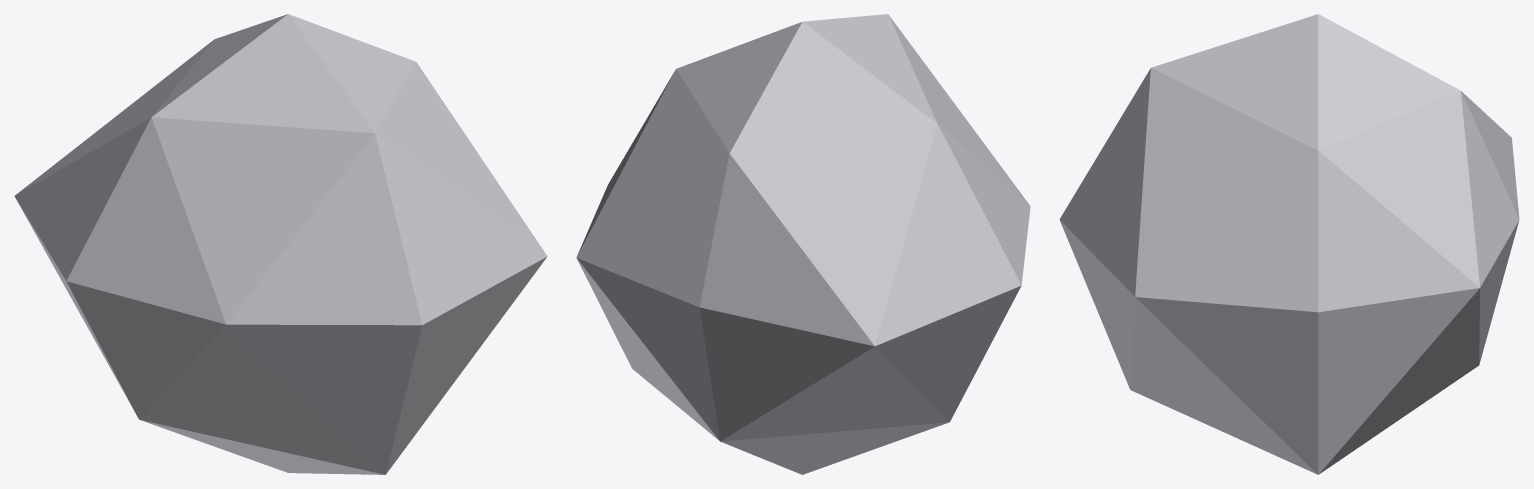
File: stasis_pod_puff.fbx
3 views of the same model, side by side, from view 1: azimuth 30°, elevation 25°; view 2: azimuth 150°, elevation 25°; view 3: azimuth 270°, elevation 25° (orthographic). The views are drawn at different scales.
Visible parts, largest first — view 1: stasis_pod_puff; view 2: stasis_pod_puff; view 3: stasis_pod_puff.
Boxes of the visible parts, x1=… form: stasis_pod_puff: x1=14, y1=14, x2=547, y2=474; stasis_pod_puff: x1=576, y1=14, x2=1030, y2=474; stasis_pod_puff: x1=1059, y1=14, x2=1519, y2=474.
Size of the model in its own units: 184 by 193 by 182.
1 material, 1 textured.
